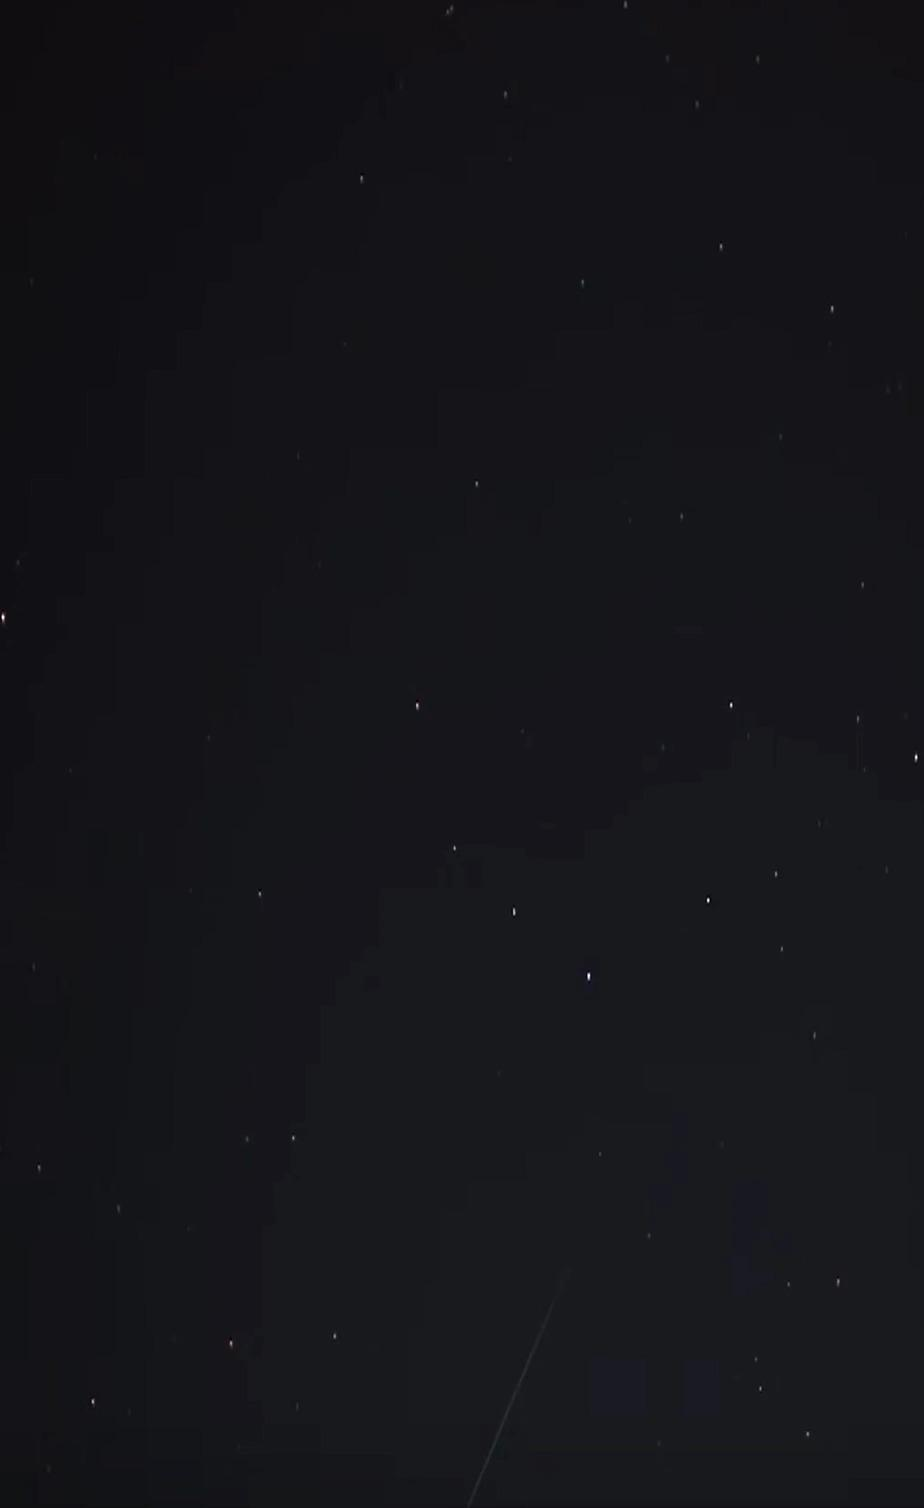meteorite: (435, 1249, 587, 1507)
